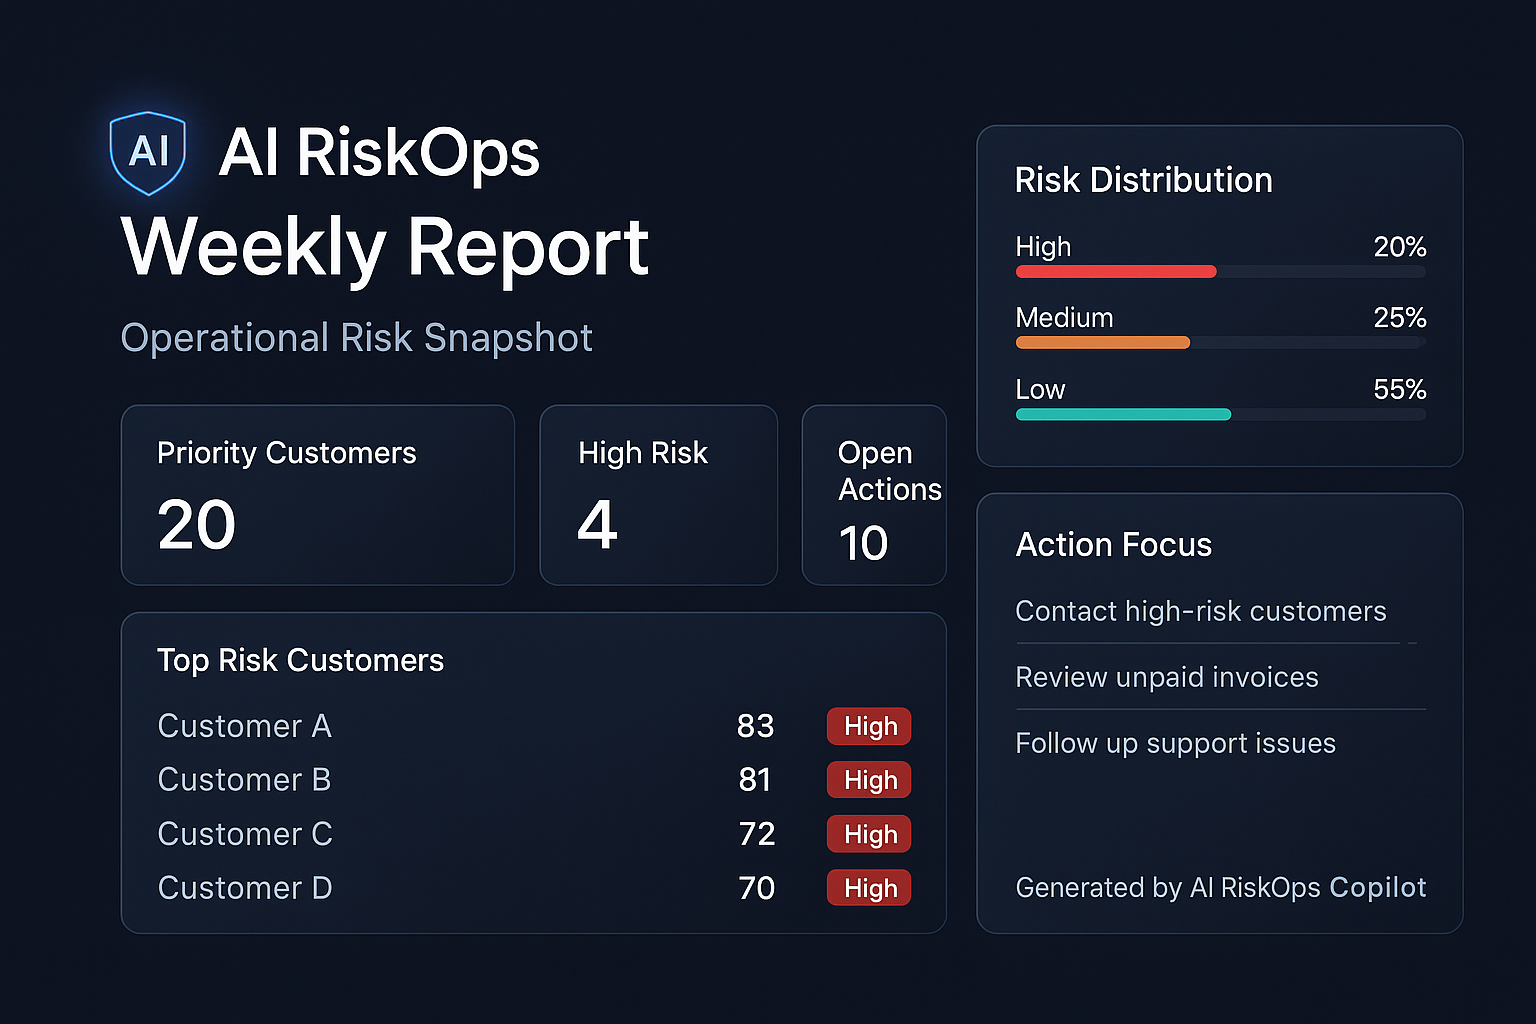

What the dashboard file says about the page in this screenshot:
{"tool":"powerbi","page":{"name":"Executive Overview","canvas":[1280,720],"ordinal":0},"visuals":[{"type":"textbox","box":[10,0,595,60],"z":0},{"type":"cardVisual","fields":{"Data":["_Measures.Total Customers","_Measures.High Risk Customers","_Measures.Open Actions","_Measures.Overdue Actions","_Measures.RiskOps Pressure Score"]},"box":[0,102.5,1280,111.2],"z":1000},{"type":"donutChart","title":"Risk Distribution","fields":{"Category":["Risk_Customers.risk_level"],"Y":["_Measures.Total Customers"]},"box":[0,213.8,621.2,266.2],"z":2000},{"type":"clusteredColumnChart","title":"Actions by Priority","fields":{"Category":["Action_Board.priority"],"Y":["_Measures.Total Actions"]},"box":[621.2,213.8,658.8,266.2],"z":3000},{"type":"tableEx","title":"Top Risk Customers","fields":{"Values":["Risk_Customers.Customer Alias","Risk_Customers.risk_level","Risk_Customers.risk_score","Risk_Customers.confidence","Risk_Customers.top_reasons","Risk_Customers.next_best_action","Risk_Customers.owner","Risk_Customers.Due Date Display"]},"box":[0,479.6,1280,240.6],"z":4000},{"type":"pageNavigator","box":[0,60,1280,52.5],"z":5000}]}

Visuals, with their boxes on the page's 1280x720 design canvas (x1, y1, x2, y2). These are canvas units, not pixel positions in the 1536x1024 screenshot, which may show the page scaled, cropped or inside an application window:
textbox: 10/0/605/60
cardVisual - _Measures.Total Customers x _Measures.High Risk Customers: 0/102/1280/214
"Risk Distribution" donutChart: 0/214/621/480
"Actions by Priority" clusteredColumnChart: 621/214/1280/480
"Top Risk Customers" tableEx: 0/480/1280/720
pageNavigator: 0/60/1280/112
